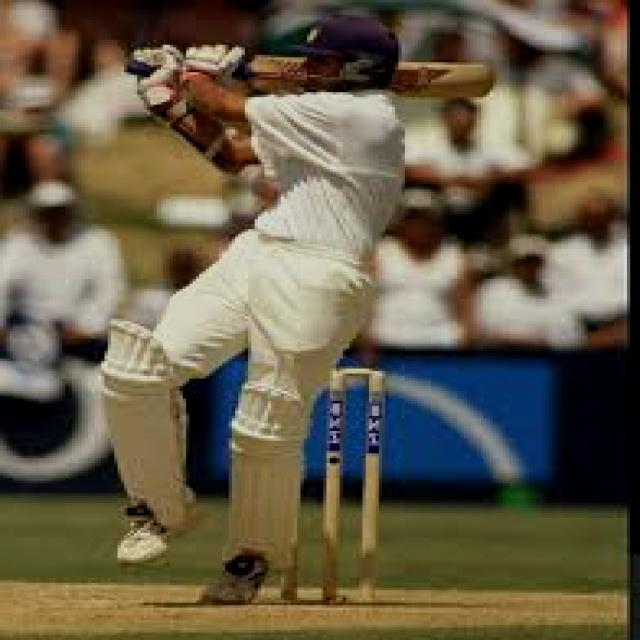toe: (470, 64, 500, 108)
